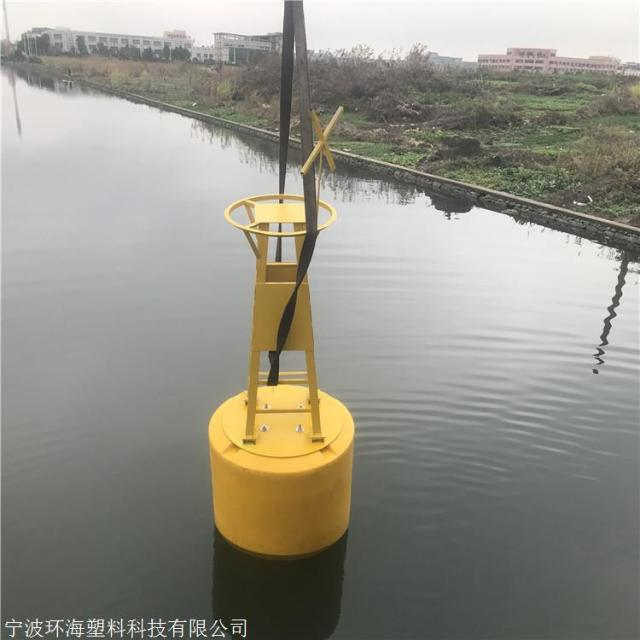buoy: (209, 100, 363, 562)
